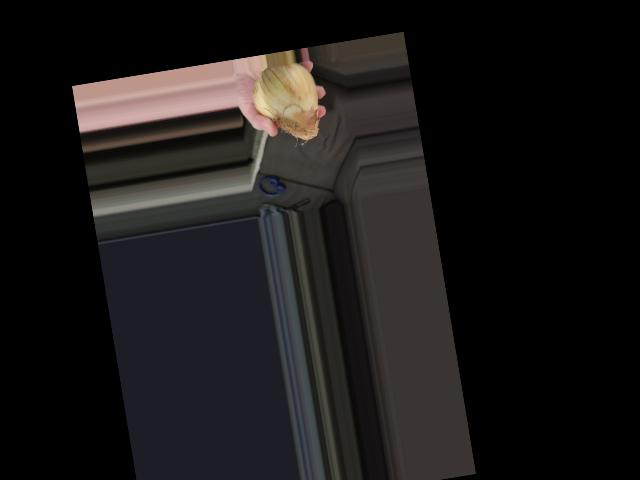onion: (250, 64, 325, 148)
